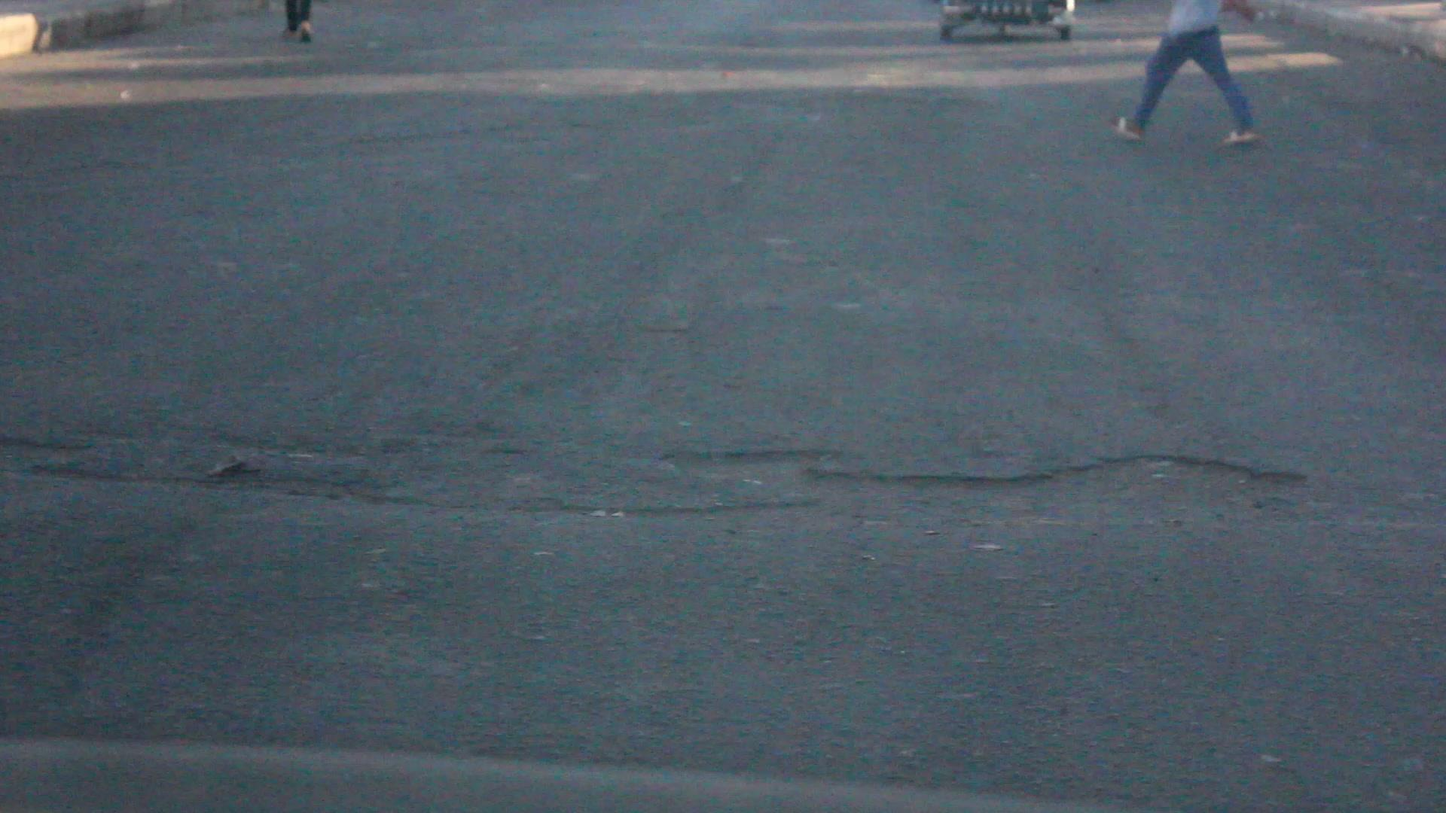Pothole: (6, 422, 1327, 537)
